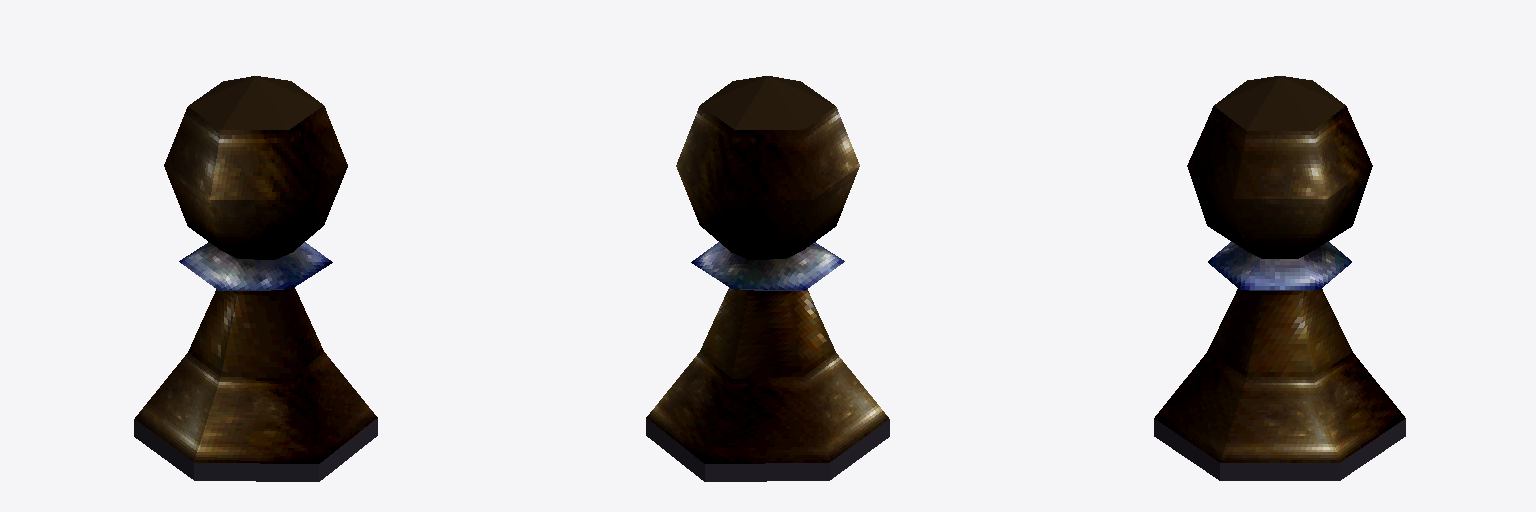
The picture shows the model from 3 angles: view 1: azimuth 30°, elevation 25°; view 2: azimuth 150°, elevation 25°; view 3: azimuth 270°, elevation 25°; orthographic projection.
Visible parts, largest first — view 1: Mesh3 Group4 Group1 Model, Mesh2 Group3 Group1 Model, Mesh1 Group2 Group1 Model; view 2: Mesh3 Group4 Group1 Model, Mesh2 Group3 Group1 Model, Mesh1 Group2 Group1 Model; view 3: Mesh3 Group4 Group1 Model, Mesh2 Group3 Group1 Model, Mesh1 Group2 Group1 Model.
Part boxes in pixels (x1,y1,x2,y2): Mesh3 Group4 Group1 Model: (134,287,377,481); Mesh2 Group3 Group1 Model: (164,76,347,259); Mesh1 Group2 Group1 Model: (179,242,332,290); Mesh3 Group4 Group1 Model: (646,287,889,481); Mesh2 Group3 Group1 Model: (676,76,859,259); Mesh1 Group2 Group1 Model: (691,242,844,290); Mesh3 Group4 Group1 Model: (1154,289,1405,480); Mesh2 Group3 Group1 Model: (1187,76,1372,258); Mesh1 Group2 Group1 Model: (1208,241,1351,290).
Bounding box in the file's own units: 1.51 × 2.83 × 1.8.
9 materials, 5 textured.